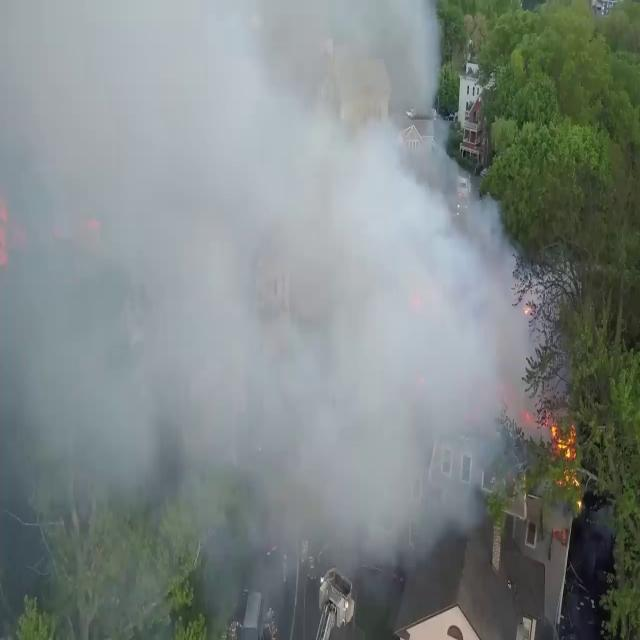Fire: (548, 417, 578, 462)
Smoke: (1, 0, 541, 619)
